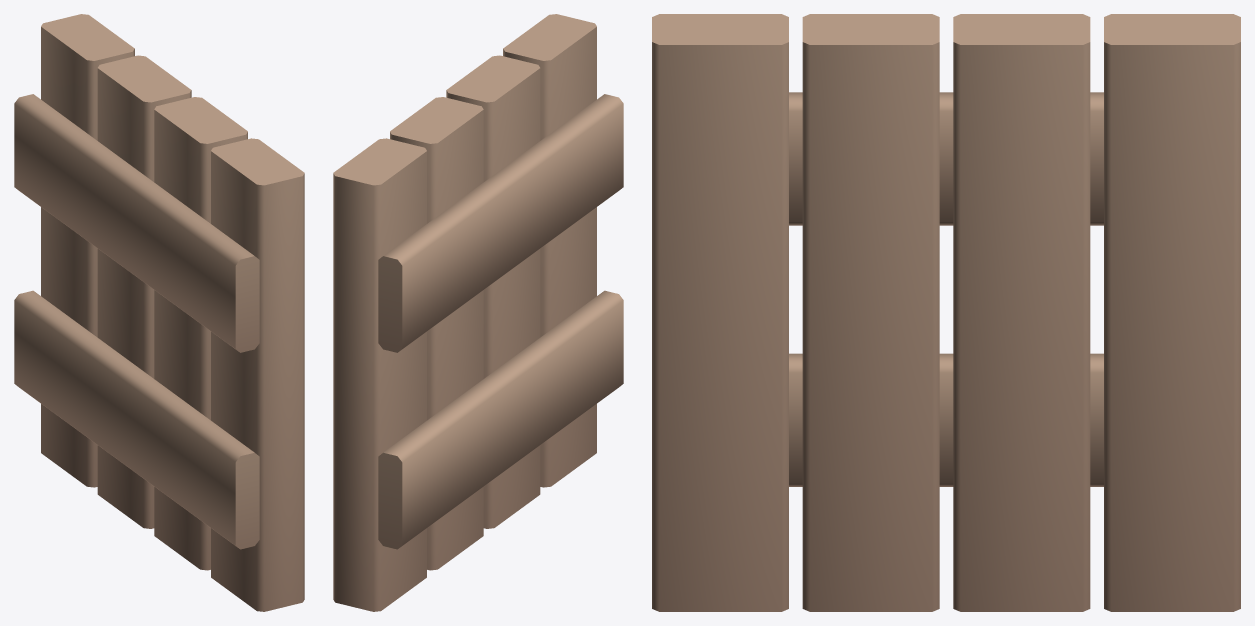
The model's file is shutter-classic-square (%wall).glb.
3 renders of one model, left to right at view 1: azimuth 30°, elevation 25°; view 2: azimuth 150°, elevation 25°; view 3: azimuth 270°, elevation 25°, orthographic. The views are drawn at different scales.
Visible parts, largest first — view 1: shutter-classic-square (%wall); view 2: shutter-classic-square (%wall); view 3: shutter-classic-square (%wall).
Part boxes in pixels (box(x1,y1,x2,y2)): shutter-classic-square (%wall): box(14, 14, 304, 611); shutter-classic-square (%wall): box(333, 14, 623, 611); shutter-classic-square (%wall): box(652, 14, 1240, 611).
Bounding box in the file's own units: 0.075 × 0.425 × 0.4.
